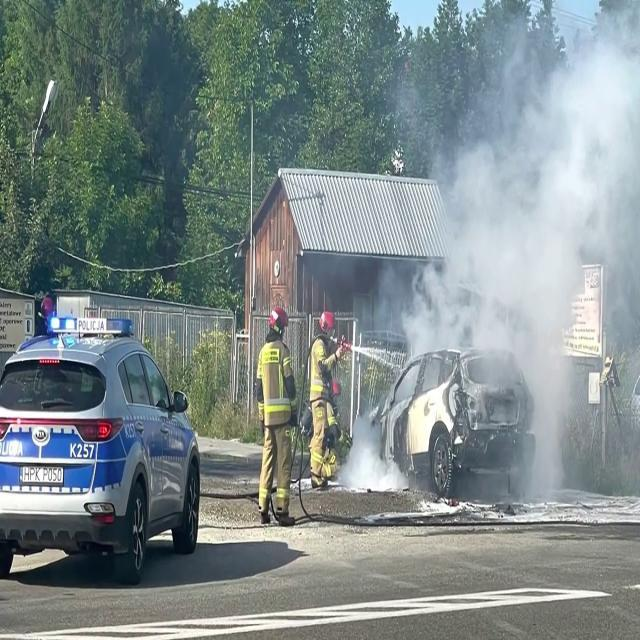Smoke: (396, 2, 640, 472)
